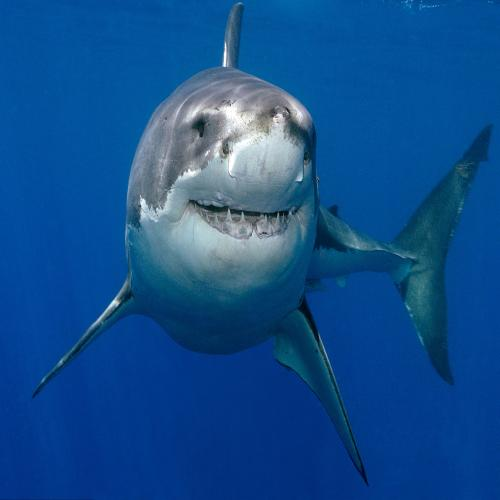shark-endangered: (106, 22, 363, 374)
